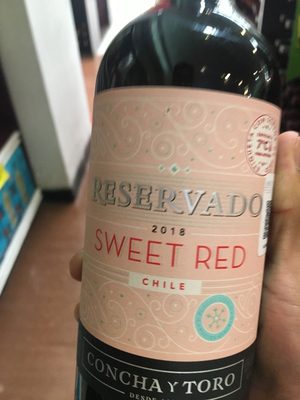reservado sweet red: (71, 3, 285, 396)
